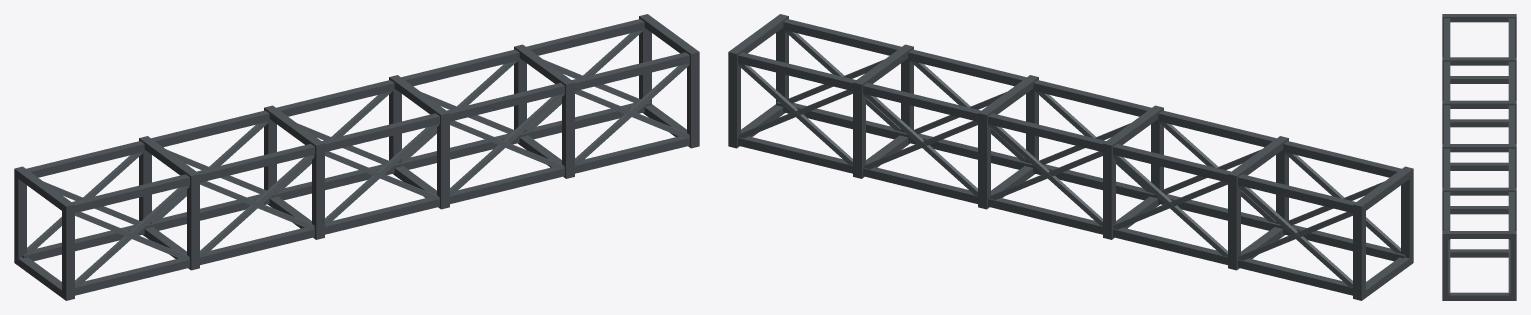
File: SM_Prop_Gantry_01.fbx
3 views of the same model, side by side, from view 1: azimuth 30°, elevation 25°; view 2: azimuth 150°, elevation 25°; view 3: azimuth 270°, elevation 25° (orthographic). The views are drawn at different scales.
Visible parts, largest first — view 1: SM_Prop_Gantry_01; view 2: SM_Prop_Gantry_01; view 3: SM_Prop_Gantry_01.
Boxes of the visible parts, bbox=[...] form: SM_Prop_Gantry_01: bbox=[14, 14, 699, 300]; SM_Prop_Gantry_01: bbox=[728, 14, 1413, 300]; SM_Prop_Gantry_01: bbox=[1442, 14, 1516, 300].
Bounding box in the file's own units: 882 × 125 × 125.
